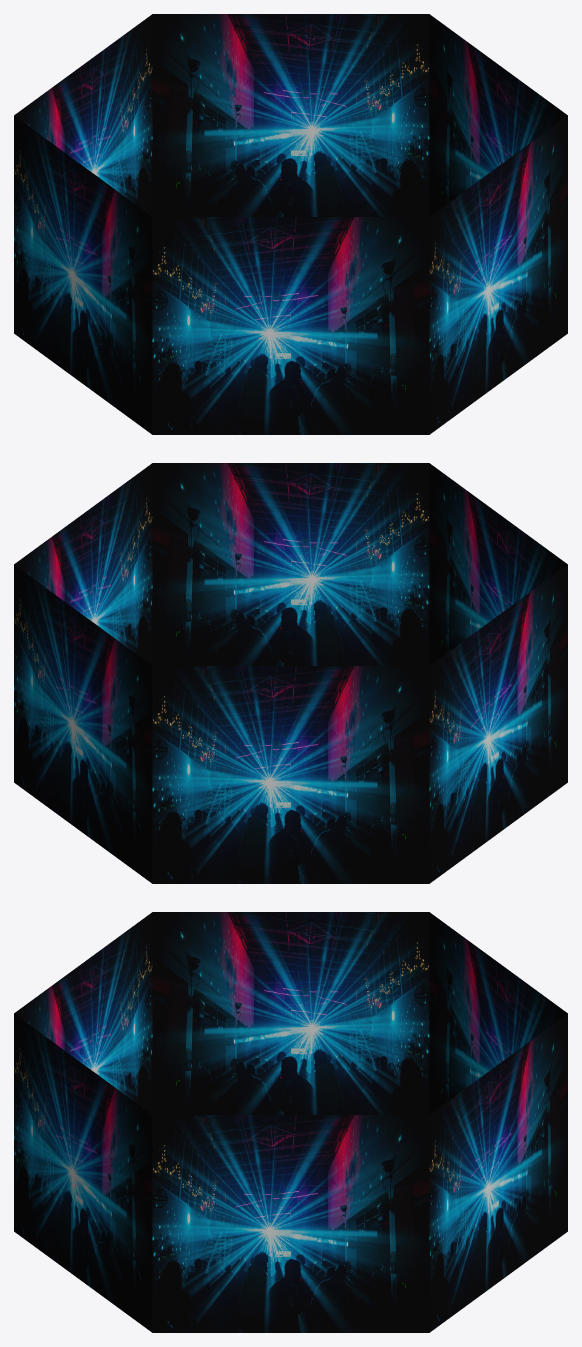
The picture shows the model from 3 angles, top to bottom: view 1: azimuth 30°, elevation 25°; view 2: azimuth 150°, elevation 25°; view 3: azimuth 270°, elevation 25°; orthographic projection.
Visible parts, largest first — view 1: Circle; view 2: Circle; view 3: Circle.
Part boxes in pixels (<box>): Circle: <box>14,14,567,434</box>; Circle: <box>14,463,567,883</box>; Circle: <box>14,912,567,1332</box>.
Bounding box in the file's own units: 4.97 × 2.49 × 5.73.
Materials: 1 (1 with a texture image).
